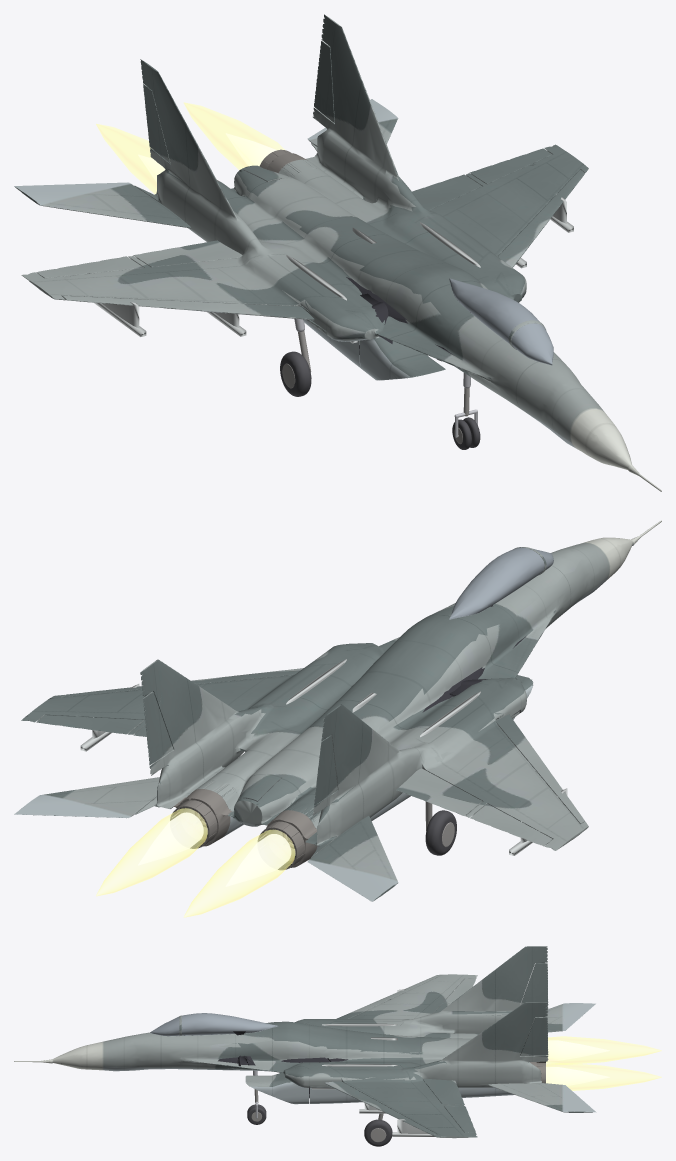
Rendered from mig29a.glb.
3 views of the same model, one above another, from view 1: azimuth 30°, elevation 25°; view 2: azimuth 150°, elevation 25°; view 3: azimuth 270°, elevation 25° (orthographic). The views are drawn at different scales.
Parts seen in each view (by area): view 1: fsim:section:tail, fsim:section:centre, fsim:section:right-wing, fsim:section:nose, fsim:section:left-wing, fsim:elevator+aileron:-0.4@-35,15, fsim:lef@-2,20 (×2), fsim:afterburner:0, fsim:flaps (×2), fsim:aileron (×2), fsim:rudder (×2), fsim:afterburner:1 (+4 smaller); view 2: fsim:section:tail, fsim:section:centre, fsim:section:right-wing, fsim:section:left-wing, fsim:section:nose, fsim:afterburner:1, fsim:afterburner:0, fsim:elevator+aileron:-0.4@-35,15, fsim:elevator+aileron:0.4@-35,15, fsim:aileron (×2), fsim:lef@-2,20 (×2), fsim:rudder (×2) (+2 smaller); view 3: fsim:section:tail, fsim:section:centre, fsim:section:nose, fsim:section:left-wing, fsim:section:right-wing, fsim:afterburner:1, fsim:afterburner:0, fsim:elevator+aileron:0.4@-35,15, fsim:rudder (×2), fsim:lef@-2,20 (×2), fsim:elevator+aileron:-0.4@-35,15, fsim:aileron (×2) (+5 smaller).
Part boxes in pixels (bbox=[...]): fsim:section:tail: bbox=[134, 14, 403, 252]; fsim:section:centre: bbox=[308, 225, 526, 380]; fsim:section:right-wing: bbox=[21, 218, 407, 357]; fsim:section:nose: bbox=[426, 288, 661, 491]; fsim:section:left-wing: bbox=[349, 144, 588, 289]; fsim:elevator+aileron:-0.4@-35,15: bbox=[14, 182, 190, 228]; fsim:lef@-2,20 (×2): bbox=[62, 169, 584, 320]; fsim:afterburner:0: bbox=[184, 102, 284, 169]; fsim:flaps (×2): bbox=[133, 174, 482, 267]; fsim:aileron (×2): bbox=[36, 148, 552, 278]; fsim:rudder (×2): bbox=[143, 40, 334, 163]; fsim:afterburner:1: bbox=[96, 124, 165, 194]; fsim:section:tail: bbox=[135, 659, 410, 867]; fsim:section:centre: bbox=[312, 578, 533, 796]; fsim:section:right-wing: bbox=[386, 667, 588, 850]; fsim:section:left-wing: bbox=[21, 646, 382, 758]; fsim:section:nose: bbox=[464, 520, 661, 650]; fsim:afterburner:1: bbox=[184, 829, 295, 917]; fsim:afterburner:0: bbox=[96, 808, 207, 896]; fsim:elevator+aileron:-0.4@-35,15: bbox=[307, 816, 398, 901]; fsim:elevator+aileron:0.4@-35,15: bbox=[14, 777, 159, 818]; fsim:aileron (×2): bbox=[36, 715, 552, 846]; fsim:lef@-2,20 (×2): bbox=[62, 668, 584, 823]; fsim:rudder (×2): bbox=[143, 691, 337, 805]; fsim:section:tail: bbox=[399, 946, 559, 1097]; fsim:section:centre: bbox=[229, 1017, 407, 1104]; fsim:section:nose: bbox=[14, 1013, 255, 1071]; fsim:section:left-wing: bbox=[281, 1057, 477, 1138]; fsim:section:right-wing: bbox=[303, 974, 477, 1037]; fsim:afterburner:1: bbox=[546, 1036, 661, 1064]; fsim:afterburner:0: bbox=[546, 1062, 661, 1090]; fsim:elevator+aileron:0.4@-35,15: bbox=[488, 1083, 595, 1112]; fsim:rudder (×2): bbox=[520, 963, 548, 1055]; fsim:lef@-2,20 (×2): bbox=[324, 977, 436, 1134]; fsim:elevator+aileron:-0.4@-35,15: bbox=[535, 1003, 595, 1031]; fsim:aileron (×2): bbox=[444, 978, 475, 1132].
Bounding box in the file's own units: 11.36 × 4.89 × 19.19.
Materials: 13 (1 with a texture image).
